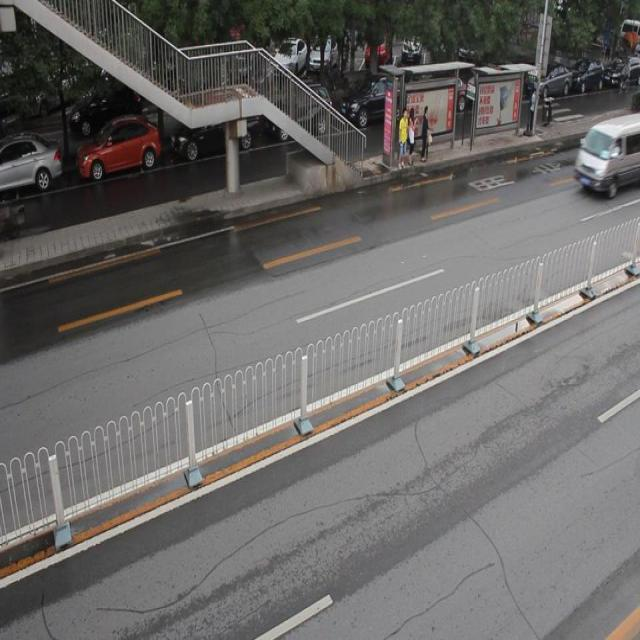car: (169, 99, 258, 161), (77, 115, 160, 181), (340, 69, 410, 129), (1, 135, 60, 196), (268, 84, 331, 139)
truck: (572, 116, 640, 198)
